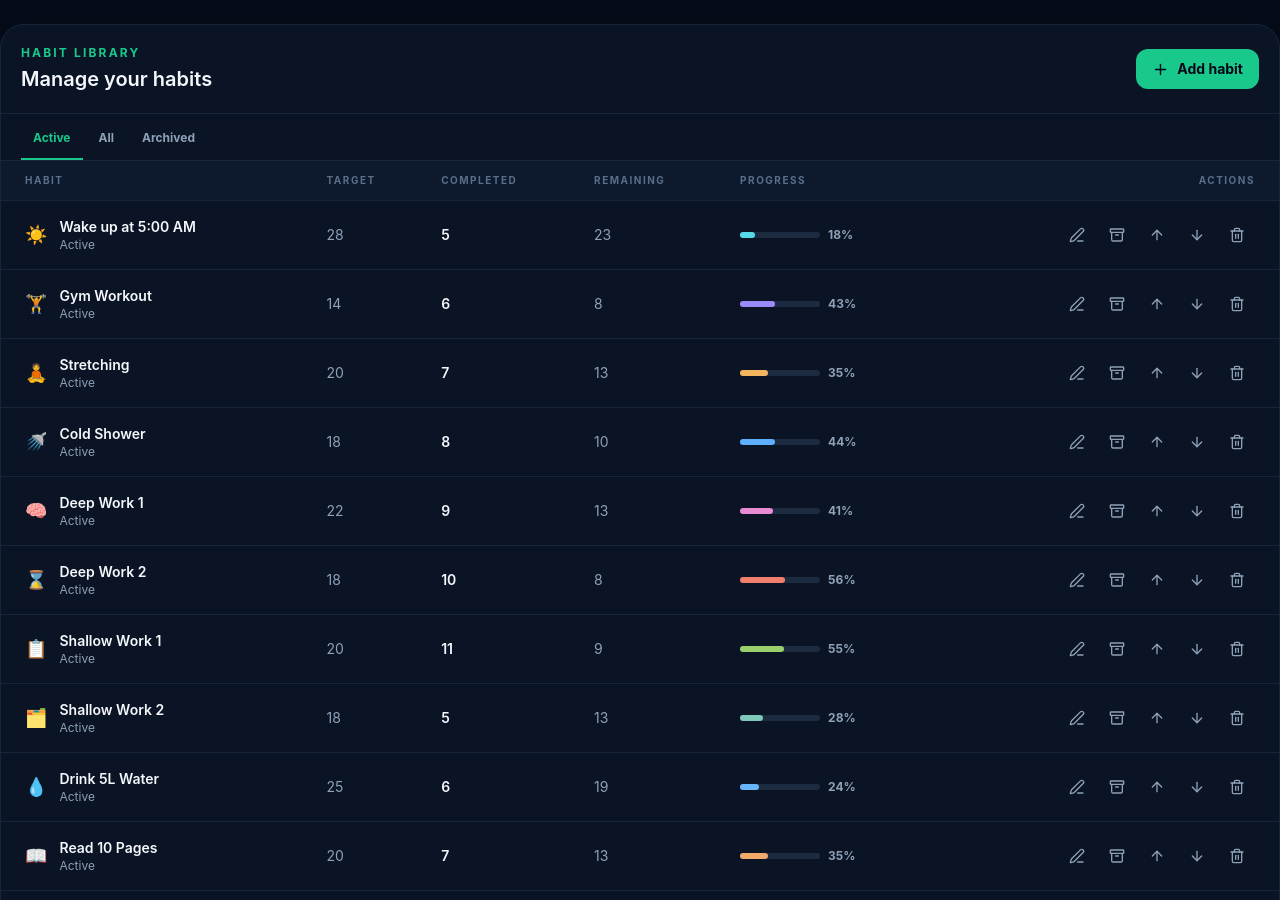
Test case: component smoke tests › creates a habit through the management form
Click the button "Add habit". click: (1198, 69)
box: [1136,49,1259,89]
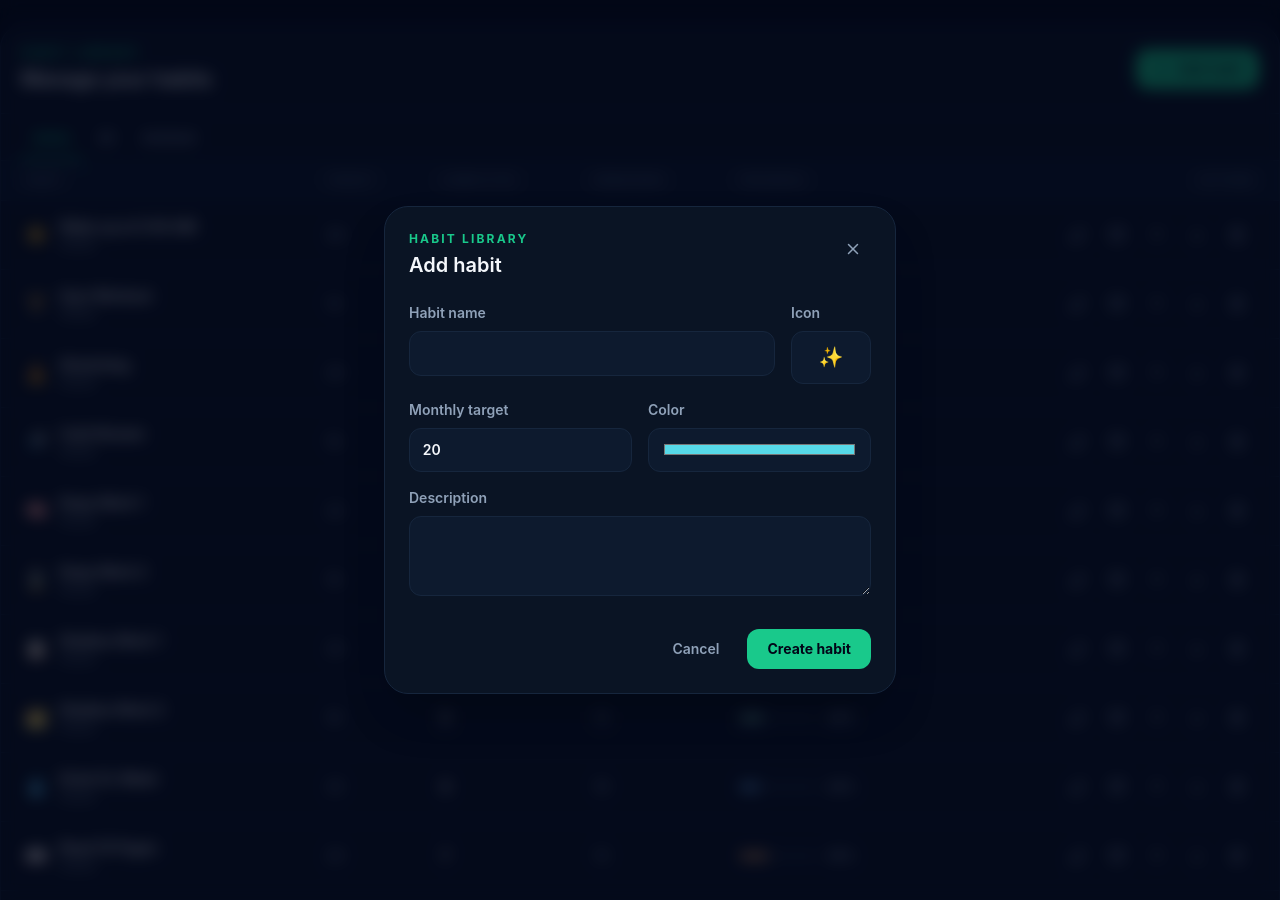
Type "Evening walk" into the field labelled "Habit name". click: (592, 353)
box: [409,331,775,376]
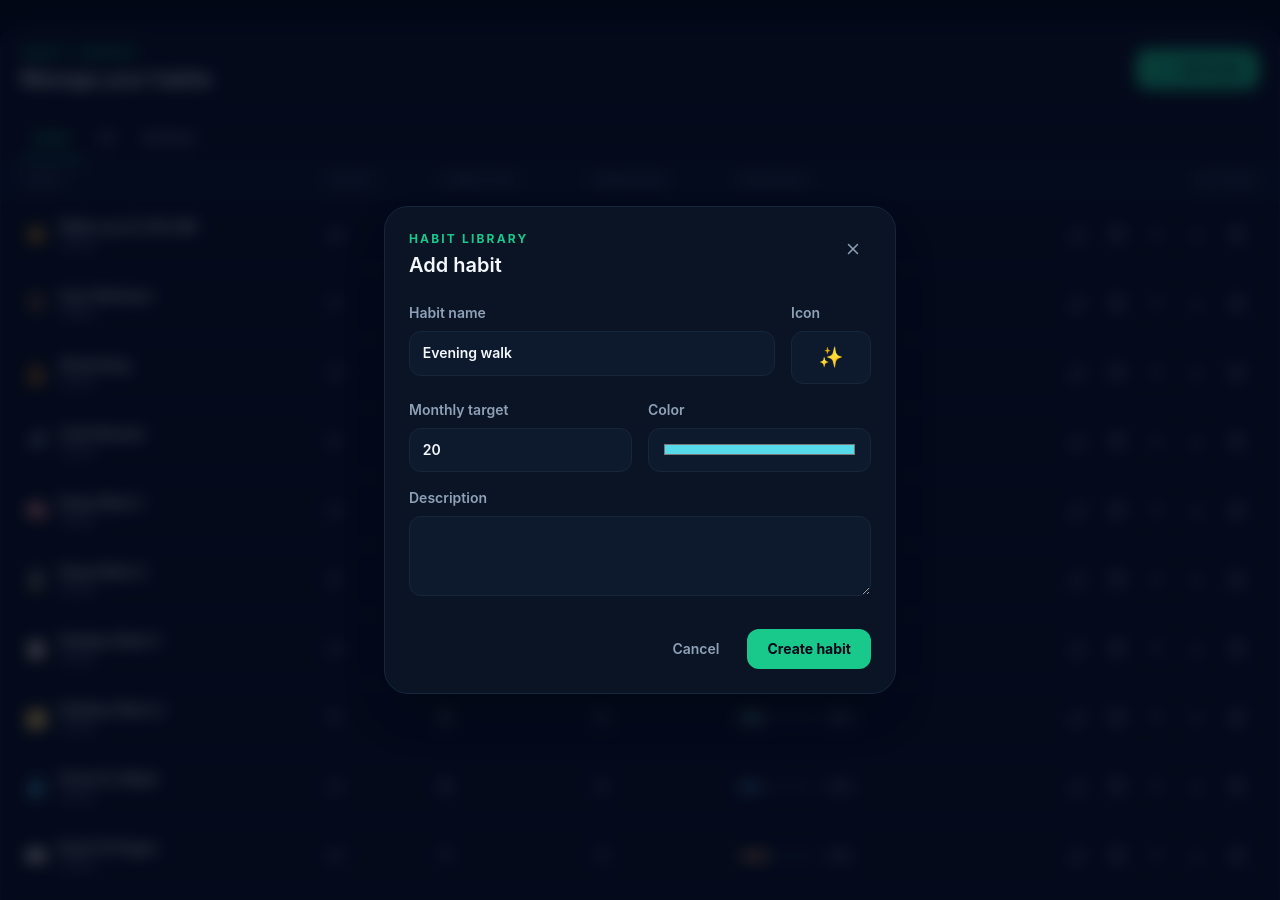
Click the button "Create habit". click: (809, 649)
box: [747,629,871,669]
(page scrolled)
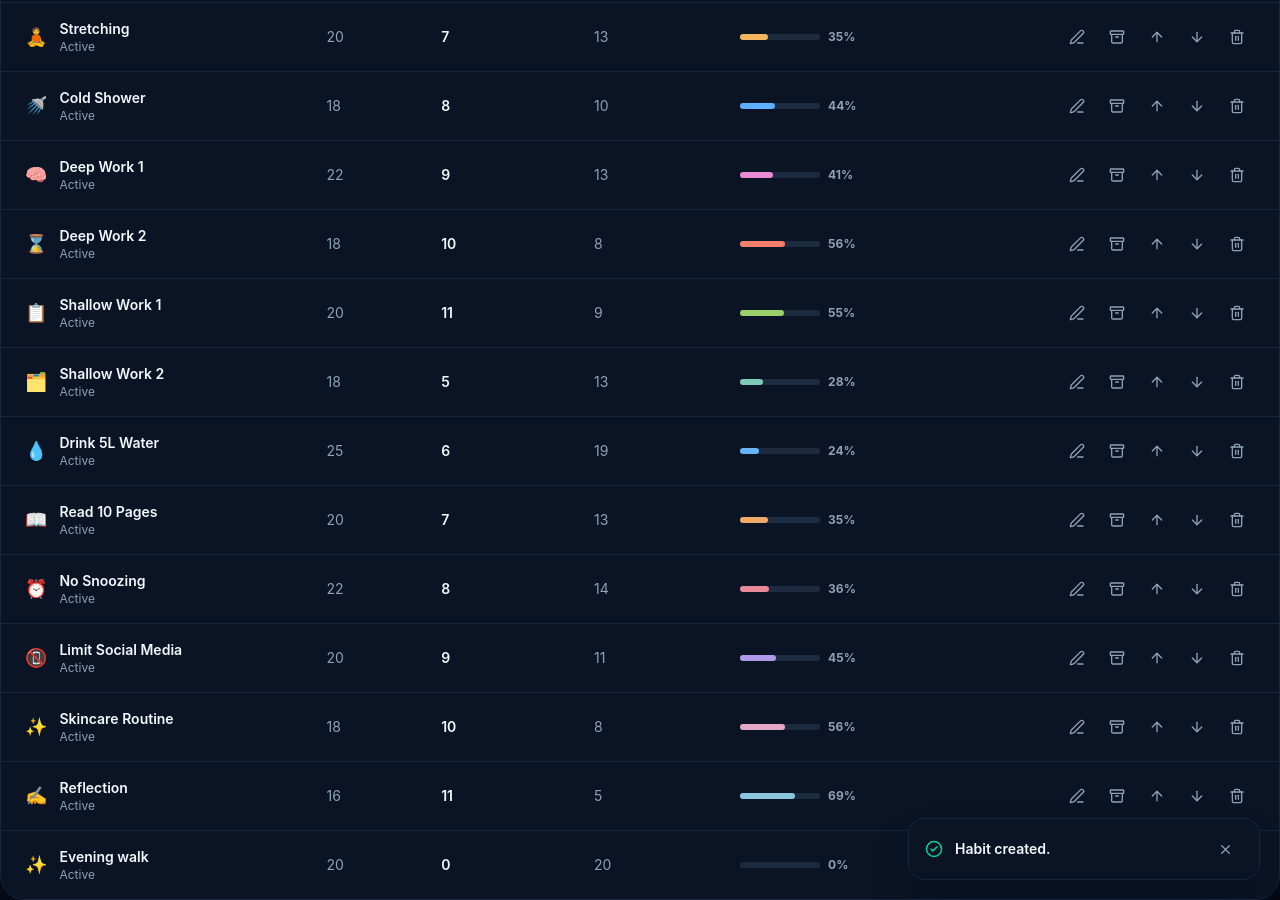
Check: the text "Evening walk" is shown, box [60,847,149,867]
